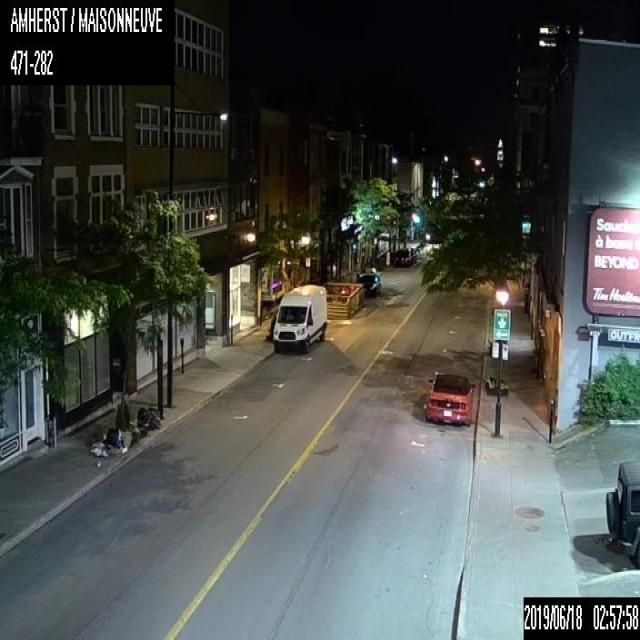vehicle: (272, 282, 326, 353), (605, 459, 639, 569), (424, 370, 475, 426), (355, 269, 381, 299)
